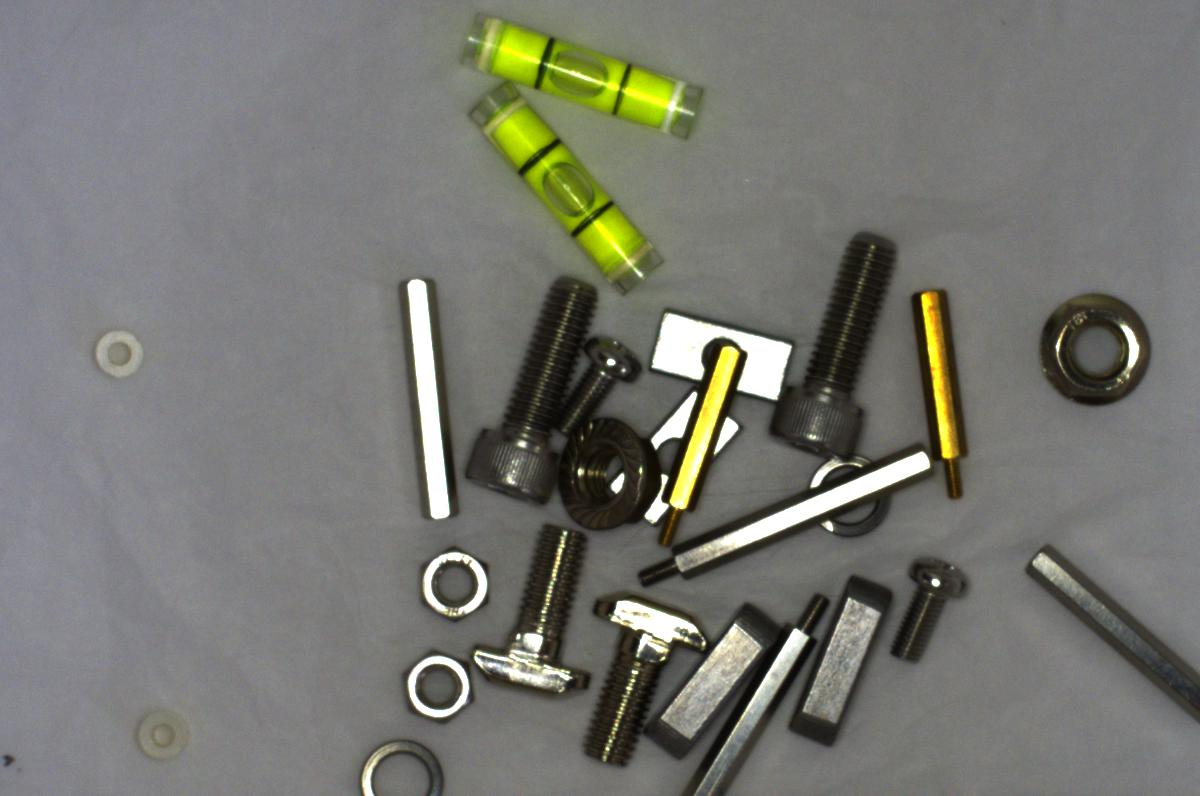Double hexagonal column: (1017, 537, 1193, 715), (387, 268, 466, 526)
Flange nut: (1030, 273, 1164, 415), (571, 409, 653, 540)
Hexagon nut: (388, 640, 479, 727), (412, 542, 500, 630)
Hexagon pillar: (658, 337, 741, 542), (911, 278, 973, 508)
Hexagon screw: (766, 223, 900, 465), (464, 273, 584, 508)
Hexagonal steel column: (650, 424, 933, 577), (692, 580, 829, 790)
Horizontal bubble: (473, 81, 664, 295), (452, 10, 706, 144)
Keybar: (634, 600, 784, 763), (774, 573, 906, 748)
Plastic cushion pillar: (128, 699, 197, 767), (89, 324, 151, 378)
Rectangular nut: (653, 306, 797, 405)
Round head screw: (889, 549, 975, 668), (551, 332, 643, 435)
Spring washer: (801, 446, 903, 539), (353, 732, 450, 795)
T-shaped screw: (566, 583, 711, 769), (471, 508, 592, 712)
